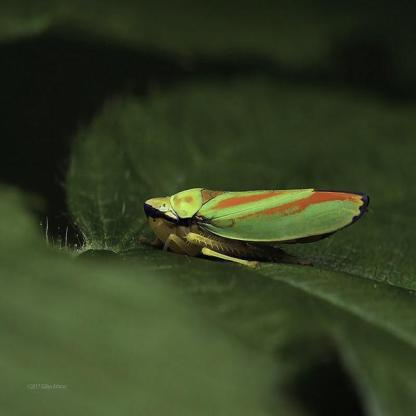green-leafhopper: (144, 185, 370, 265)
